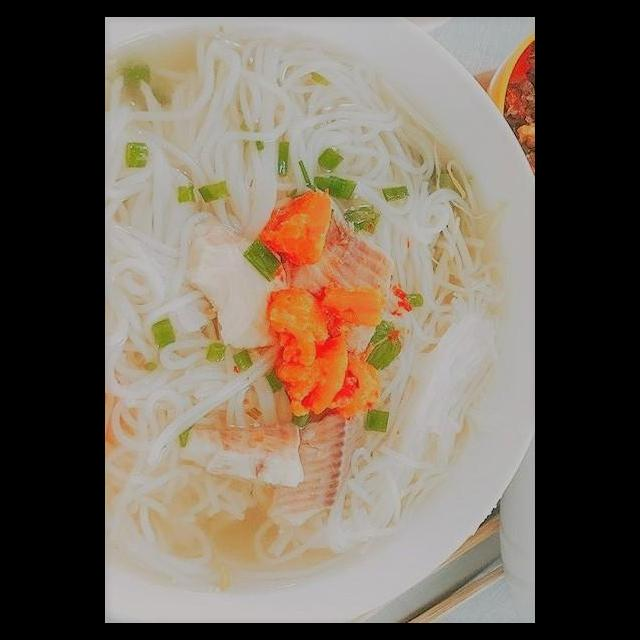bun: (143, 18, 522, 244), (146, 347, 485, 575), (412, 19, 530, 474)
bun ca: (113, 57, 530, 605)
ca: (289, 236, 416, 432), (168, 240, 260, 375), (198, 111, 252, 302)
tom: (249, 246, 324, 362), (355, 228, 417, 344), (284, 236, 347, 342), (246, 327, 306, 412)
